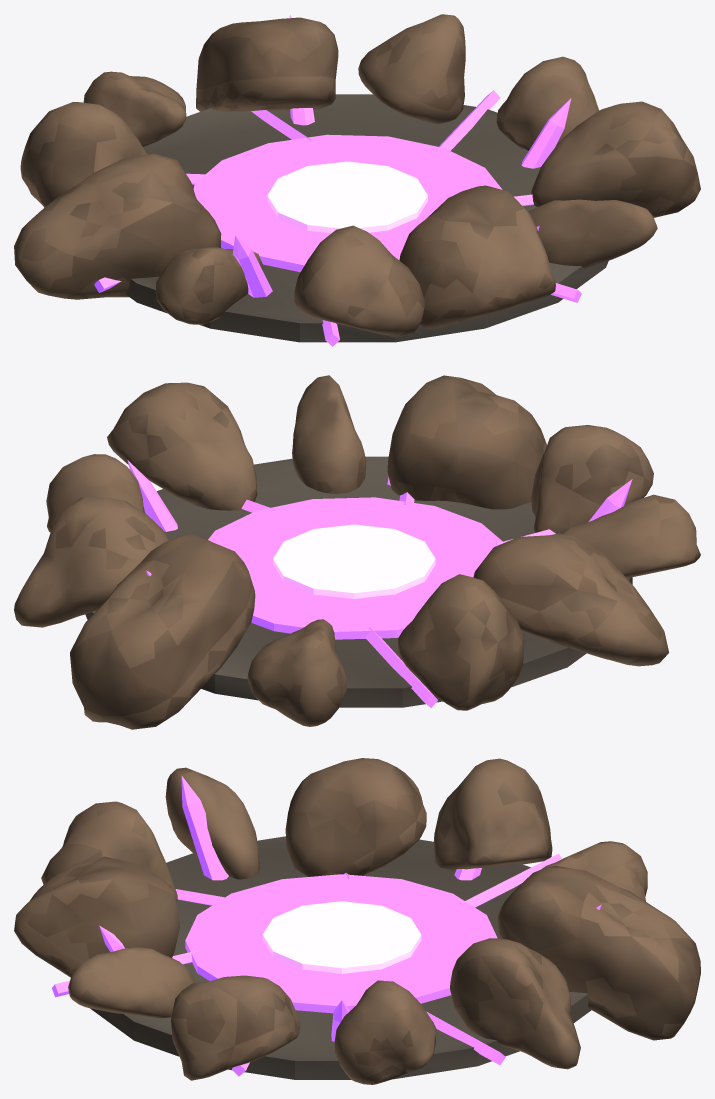
File: puits.glb
The picture shows the model from 3 angles, top to bottom: view 1: azimuth 30°, elevation 25°; view 2: azimuth 150°, elevation 25°; view 3: azimuth 270°, elevation 25°; orthographic projection. The views are drawn at different scales.
Parts seen in each view (by area): view 1: puits; view 2: puits; view 3: puits.
Boxes of the visible parts, x1,y1,x2,y2 form: puits: (14, 14, 700, 346); puits: (14, 375, 700, 729); puits: (14, 758, 700, 1084).
Bounding box in the file's own units: 3.28 × 0.7359 × 3.29.
